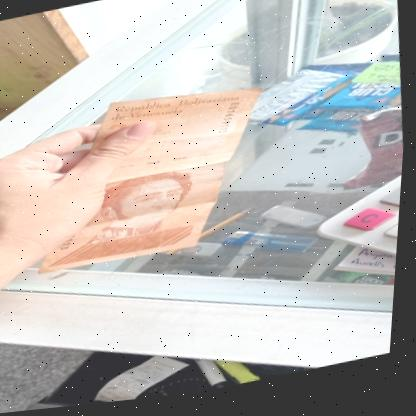twenty-front-vef: (25, 75, 278, 281)
